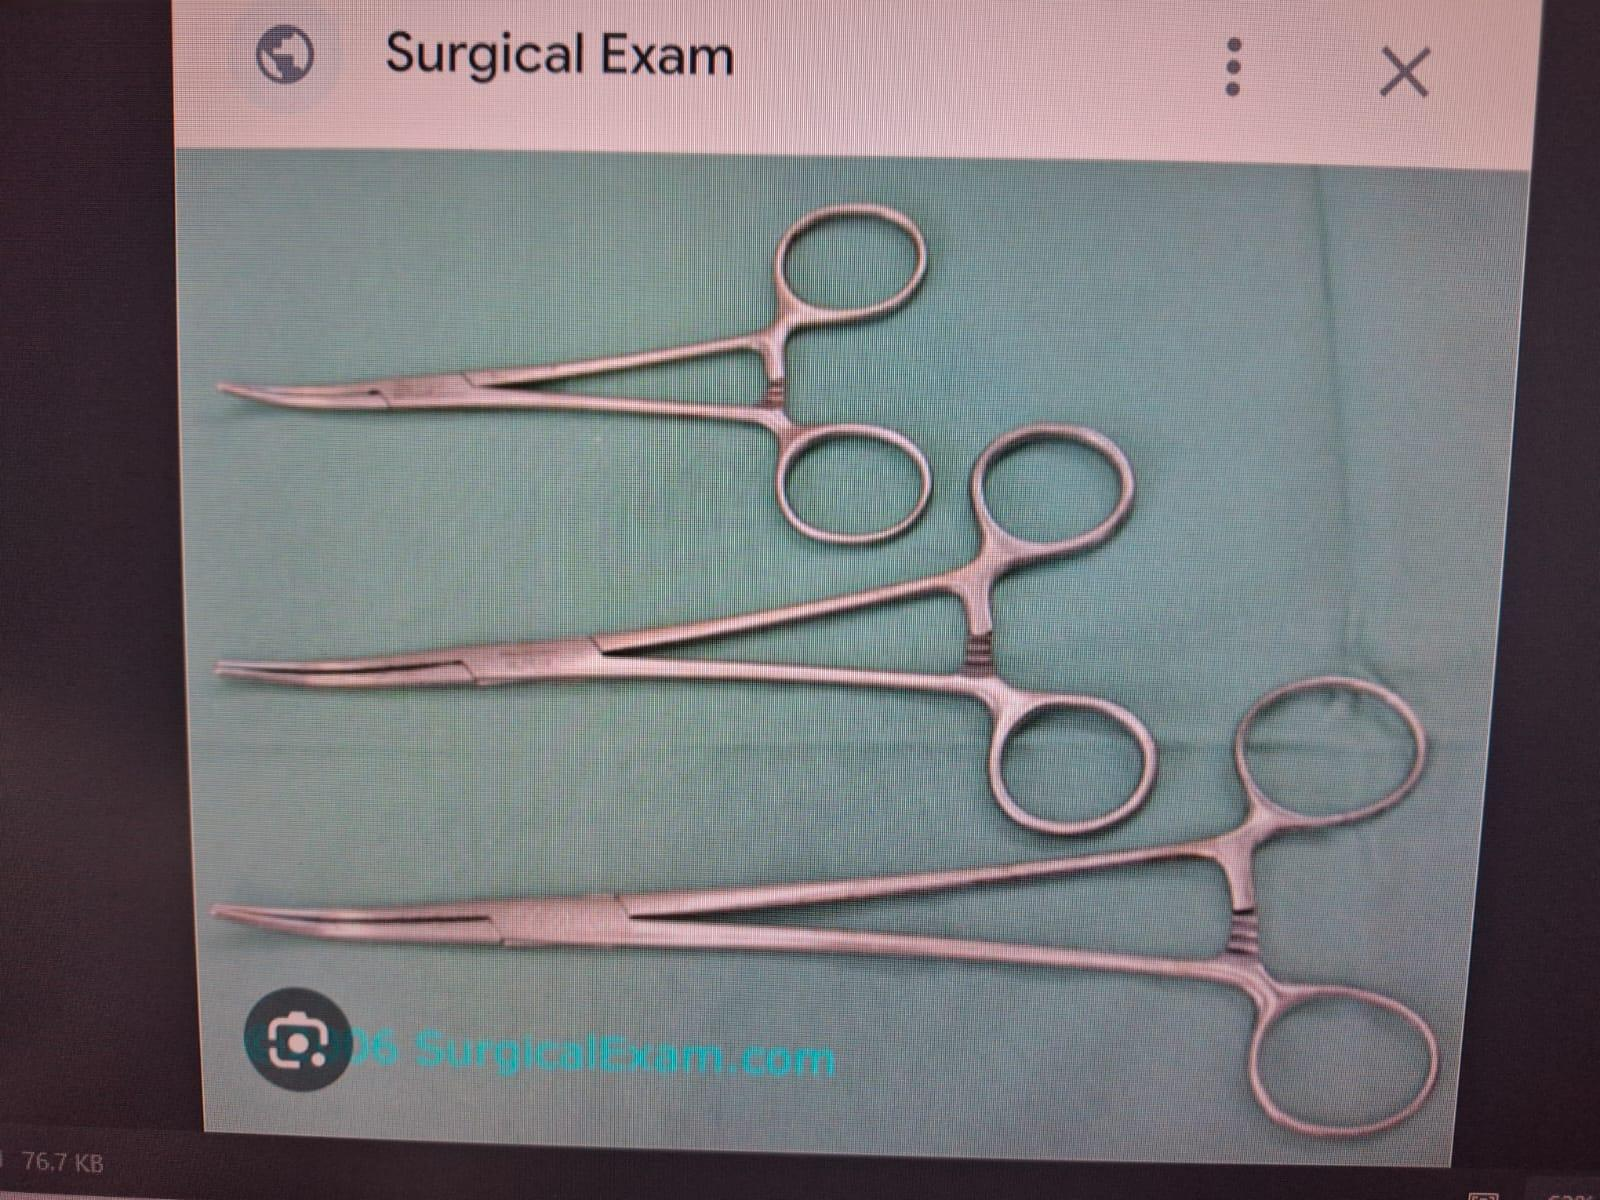Artery Forceps: (204, 668, 1468, 1132), (207, 420, 1164, 839), (197, 166, 942, 562)
